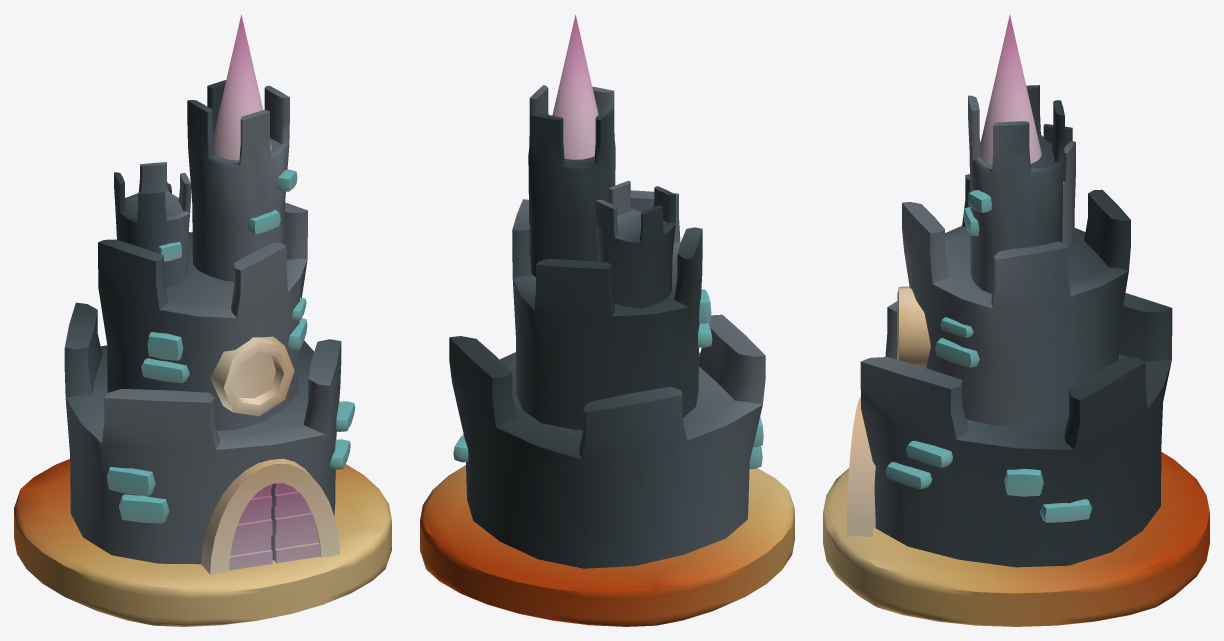
The model's file is FBX_EnvCastle 1.fbx.
3 views of the same model, side by side, from view 1: azimuth 30°, elevation 25°; view 2: azimuth 150°, elevation 25°; view 3: azimuth 270°, elevation 25° (orthographic). The views are drawn at different scales.
Visible parts, largest first — view 1: Cube.009; view 2: Cube.009; view 3: Cube.009.
Boxes of the visible parts, x1,y1,x2,y2 form: Cube.009: [14, 14, 391, 626]; Cube.009: [420, 15, 794, 626]; Cube.009: [823, 14, 1209, 626].
Bounding box in the file's own units: 100 × 158 × 100.
1 material, 1 textured.
